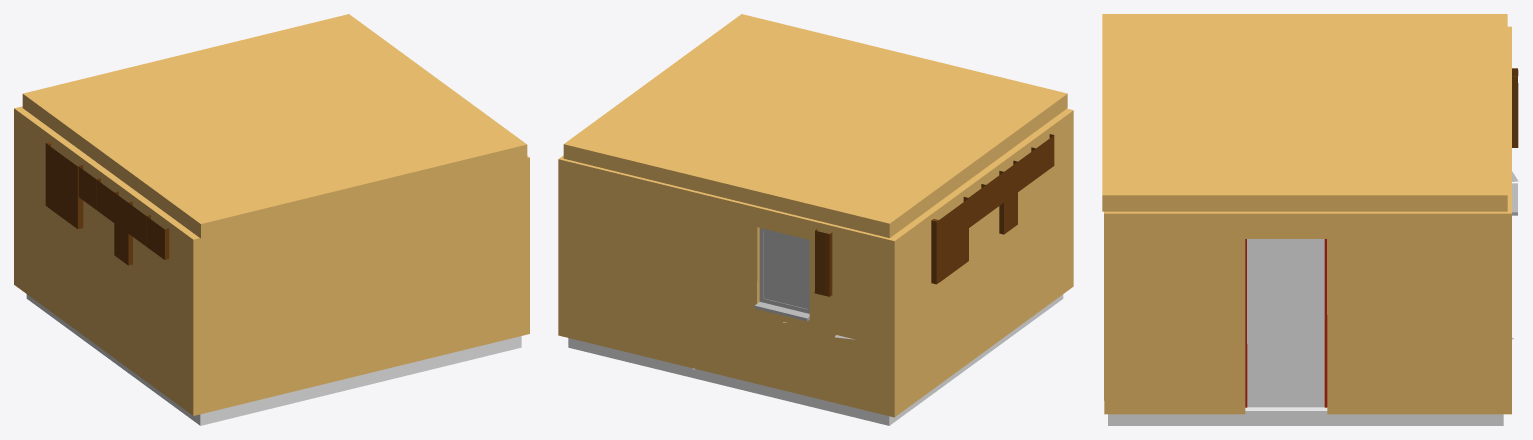
The model's file is FloorPlan28_physics.fbx.
3 renders of one model, left to right at view 1: azimuth 30°, elevation 25°; view 2: azimuth 150°, elevation 25°; view 3: azimuth 270°, elevation 25°, orthographic. The views are drawn at different scales.
Parts seen in each view (by area): view 1: Room, Ceiling, Cube.090, Floor; view 2: Room, Ceiling, Cube.090, Floor, Window, VenetianFrame; view 3: Ceiling, Room, Door, Floor, DoorFrame, Cube.090.
Boxes of the visible parts, x1=… form: Room: x1=14, y1=106, x2=529, y2=415; Ceiling: x1=22, y1=14, x2=527, y2=238; Cube.090: x1=45, y1=141, x2=169, y2=265; Floor: x1=26, y1=294, x2=521, y2=425; Room: x1=558, y1=108, x2=1073, y2=417; Ceiling: x1=563, y1=14, x2=1067, y2=238; Cube.090: x1=814, y1=134, x2=1054, y2=296; Floor: x1=568, y1=294, x2=1063, y2=425; Window: x1=764, y1=231, x2=807, y2=308; VenetianFrame: x1=754, y1=228, x2=809, y2=321; Ceiling: x1=1102, y1=14, x2=1507, y2=211; Room: x1=1104, y1=26, x2=1511, y2=414; Door: x1=1247, y1=239, x2=1324, y2=407; Floor: x1=1108, y1=407, x2=1503, y2=425; DoorFrame: x1=1245, y1=239, x2=1327, y2=407; Cube.090: x1=1512, y1=68, x2=1518, y2=147.
Bounding box in the file's own units: 487 × 278 × 451.
